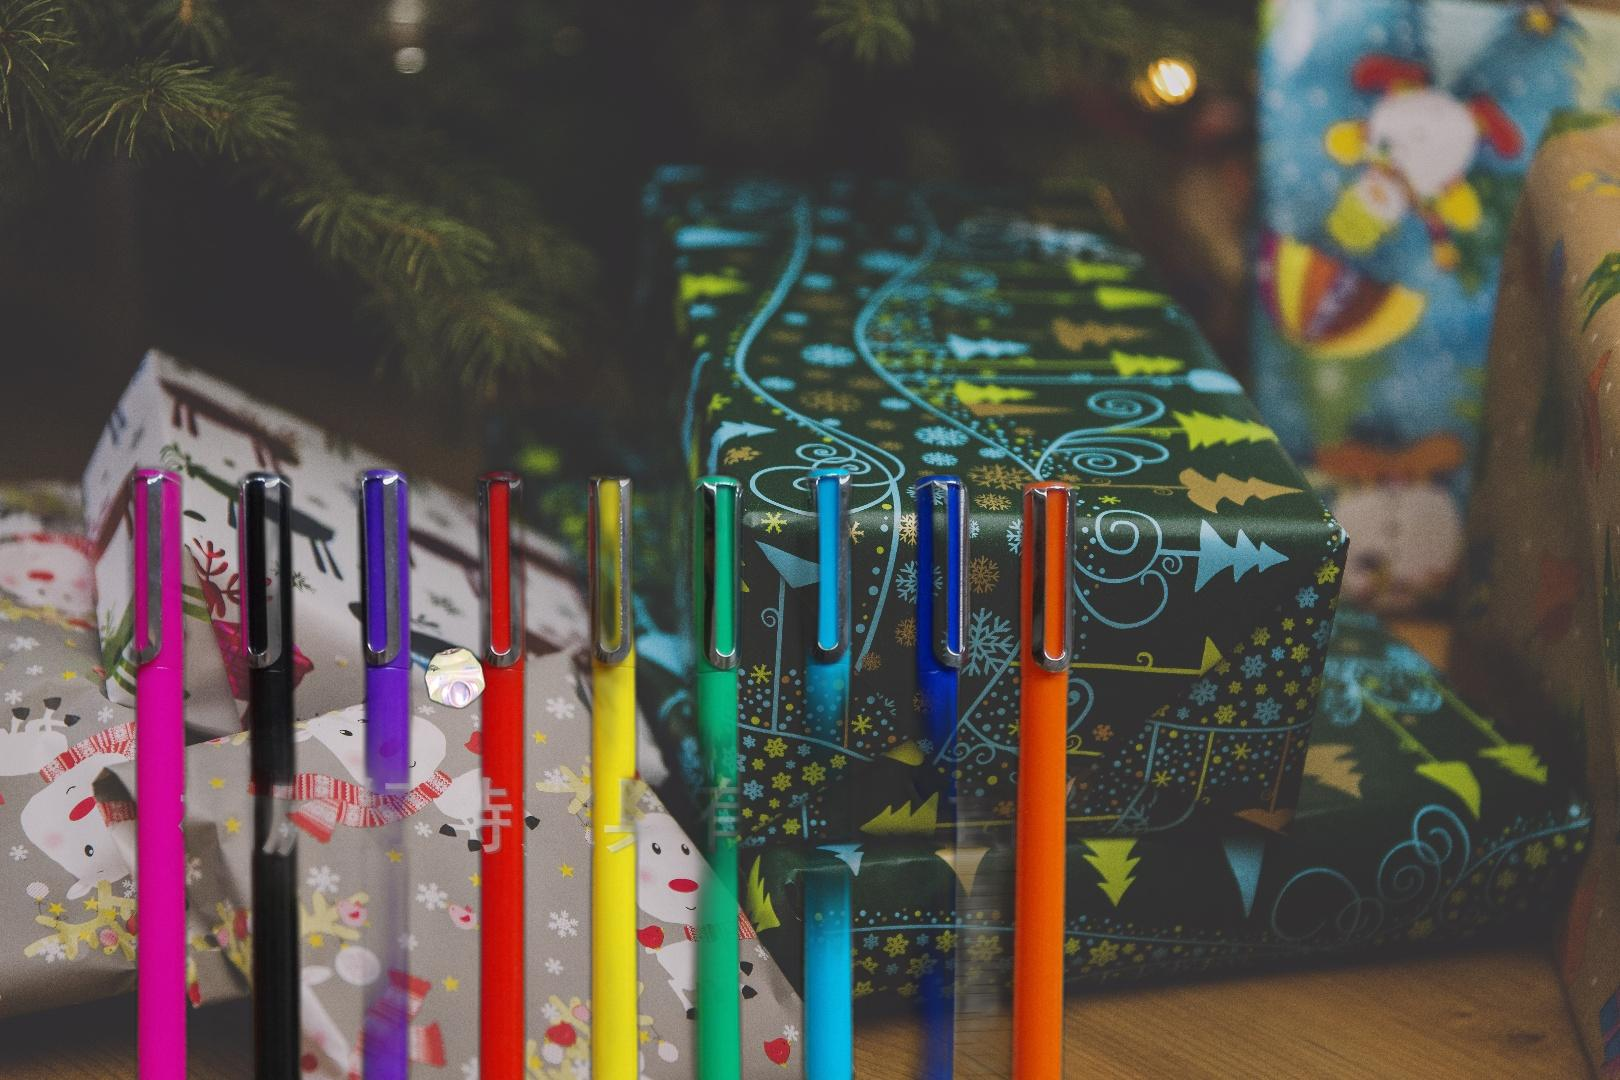metal-cans: (419, 641, 491, 715)
penholder: (117, 459, 1086, 1080), (917, 1072, 1620, 1080)
